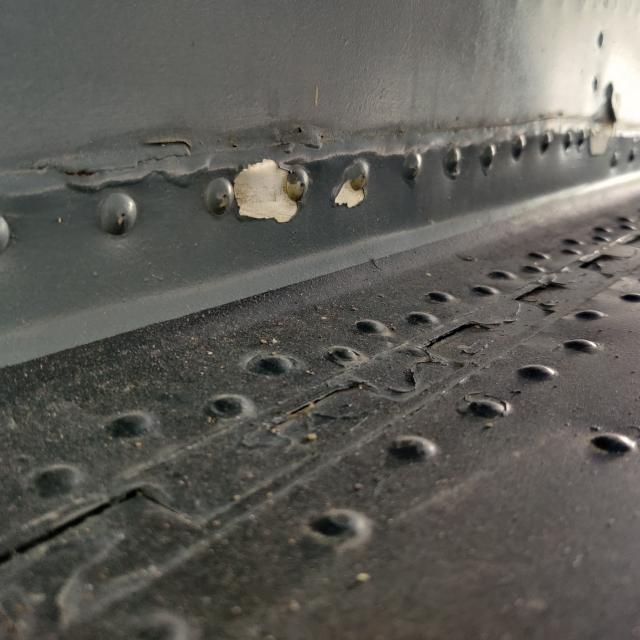paint-off: (218, 145, 314, 233), (326, 160, 376, 213)
